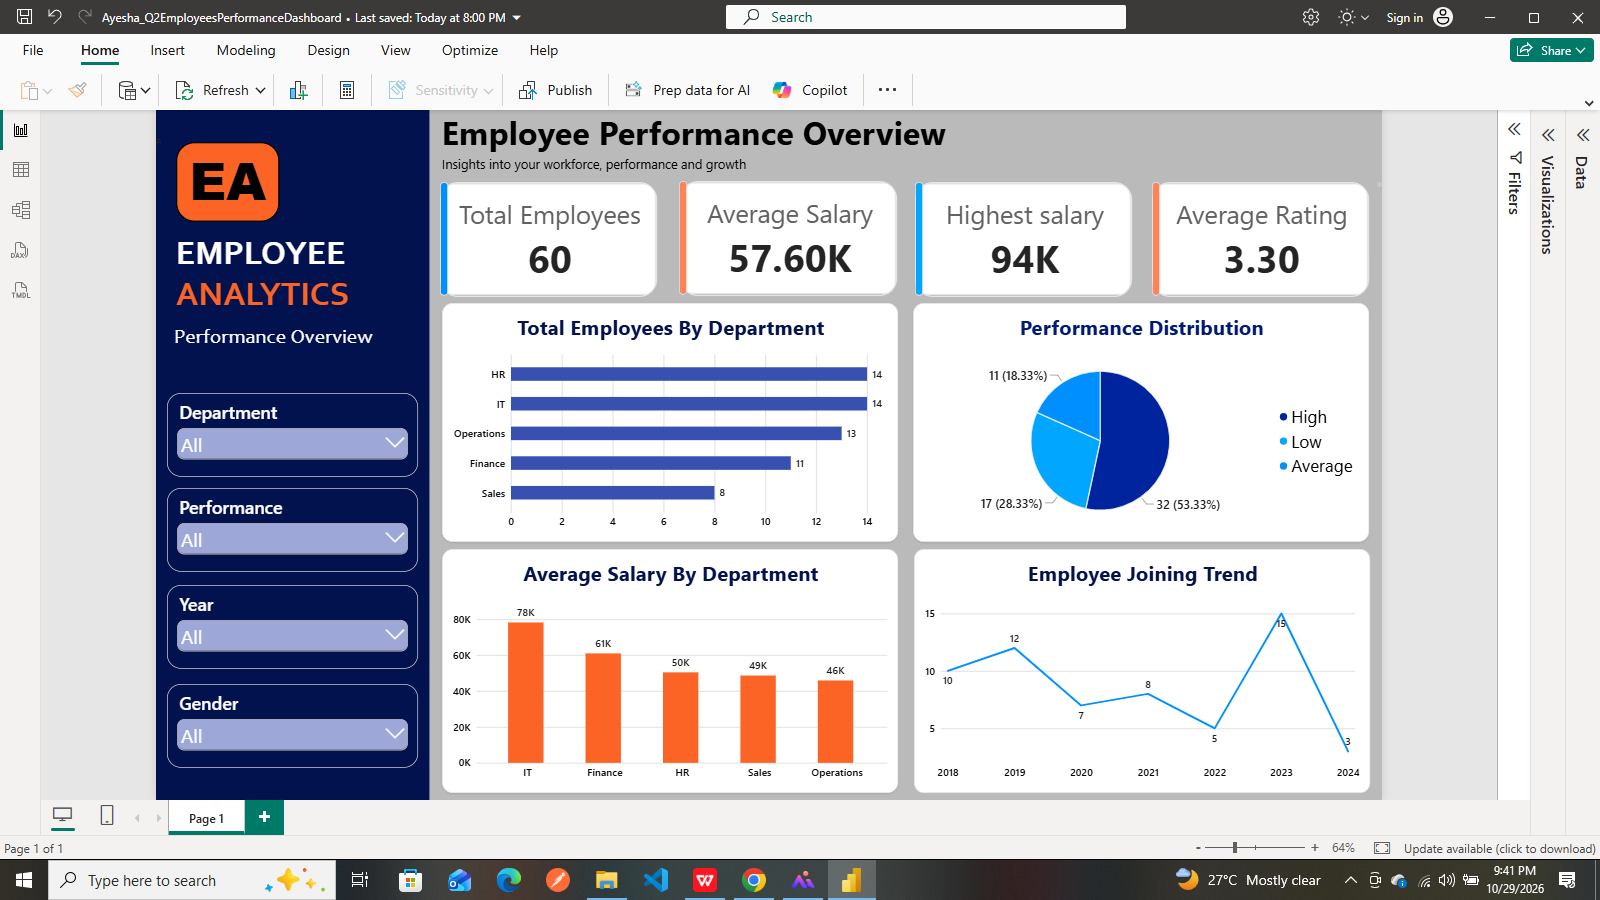

The dashboard page shown, as its layout file describes it:
{"tool":"powerbi","page":{"name":"Page 1","canvas":[1920,1080],"ordinal":0},"visuals":[{"type":"textbox","box":[0,0,428,1079.5],"z":0},{"type":"textbox","box":[30.8,50.1,161.9,125.3],"z":1000},{"type":"textbox","box":[30.8,188.9,294.9,133],"z":1001},{"type":"textbox","box":[28.9,335.4,327.7,44.3],"z":1002},{"type":"slicer","fields":{"Values":["Q2_employee_data.Department"]},"box":[17.3,443.4,393.3,131.1],"z":1003},{"type":"slicer","fields":{"Values":["Q2_employee_data.Performance"]},"box":[17.3,591.8,393.3,131.1],"z":1004},{"type":"slicer","fields":{"Values":["Q2_employee_data.Year"]},"box":[17.3,744.1,393.3,131.1],"z":1005},{"type":"slicer","fields":{"Values":["Q2_employee_data.Gender"]},"box":[17.3,898.3,393.3,131.1],"z":1006},{"type":"textbox","title":"Employee Performance Overview","box":[428,0,1492,119.5],"z":1007},{"type":"cardVisual","fields":{"Data":["Q2_employee_data.Total Employees"]},"box":[444.1,113.4,340,179.5],"z":1008},{"type":"shape","box":[444.1,113.4,13.2,177.6],"z":1009},{"type":"cardVisual","fields":{"Data":["Q2_employee_data.Average Salary"]},"box":[820.2,111.5,340,179.5],"z":1010},{"type":"shape","box":[818.3,111.5,13.2,177.6],"z":1011},{"type":"cardVisual","fields":{"Data":["Q2_employee_data.Highest salary"]},"box":[1188.7,113.4,340,179.5],"z":1012},{"type":"cardVisual","fields":{"Data":["Q2_employee_data.Average Rating"]},"box":[1559.1,113.4,340,179.5],"z":1013},{"type":"shape","box":[1559.1,113.4,13.2,177.6],"z":1014},{"type":"shape","box":[1188.7,113.4,13.2,177.6],"z":1015},{"type":"barChart","title":"Total Employees By Department","fields":{"Category":["Q2_employee_data.Department"],"Y":["CountNonNull(Q2_employee_data.EmpID)"]},"box":[447.9,302.4,714.3,374.2],"z":1016},{"type":"pieChart","title":"Performance Distribution","fields":{"Category":["Q2_employee_data.Performance"],"Y":["CountNonNull(Q2_employee_data.EmpID)"]},"box":[1184.9,302.4,714.3,374.2],"z":1017},{"type":"clusteredColumnChart","title":"Average Salary By Department","fields":{"Category":["Q2_employee_data.Department"],"Y":["Q2_employee_data.Average Salary"]},"box":[447.9,687.9,714.3,381.7],"z":1018},{"type":"lineChart","title":"Employee Joining Trend","fields":{"Category":["Q2_employee_data.JoinDate.Variation.Date Hierarchy.Year"],"Y":["CountNonNull(Q2_employee_data.EmpID)"]},"box":[1186.8,687.9,714.3,381.7],"z":1019}]}

Visuals, with their boxes on the page's 1920x1080 design canvas (x1, y1, x2, y2). These are canvas units, not pixel positions in the 1600x900 screenshot, which may show the page scaled, cropped or inside an application window:
textbox: <box>0,0,428,1080</box>
textbox: <box>31,50,193,175</box>
textbox: <box>31,189,326,322</box>
textbox: <box>29,335,357,380</box>
slicer - Q2_employee_data.Department: <box>17,443,411,574</box>
slicer - Q2_employee_data.Performance: <box>17,592,411,723</box>
slicer - Q2_employee_data.Year: <box>17,744,411,875</box>
slicer - Q2_employee_data.Gender: <box>17,898,411,1029</box>
"Employee Performance Overview" textbox: <box>428,0,1920,120</box>
cardVisual - Q2_employee_data.Total Employees: <box>444,113,784,293</box>
shape: <box>444,113,457,291</box>
cardVisual - Q2_employee_data.Average Salary: <box>820,112,1160,291</box>
shape: <box>818,112,832,289</box>
cardVisual - Q2_employee_data.Highest salary: <box>1189,113,1529,293</box>
cardVisual - Q2_employee_data.Average Rating: <box>1559,113,1899,293</box>
shape: <box>1559,113,1572,291</box>
shape: <box>1189,113,1202,291</box>
"Total Employees By Department" barChart: <box>448,302,1162,677</box>
"Performance Distribution" pieChart: <box>1185,302,1899,677</box>
"Average Salary By Department" clusteredColumnChart: <box>448,688,1162,1070</box>
"Employee Joining Trend" lineChart: <box>1187,688,1901,1070</box>
